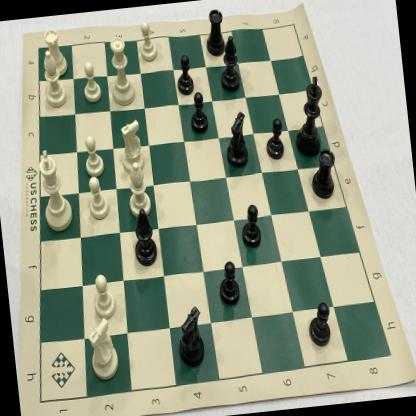bishop: (36, 48, 70, 110), (129, 205, 159, 269), (216, 32, 244, 97), (124, 158, 152, 216)
king: (287, 69, 330, 158), (34, 146, 76, 234)
knight: (84, 313, 122, 383), (172, 301, 208, 370), (221, 107, 252, 170), (116, 115, 147, 176)
pawn: (303, 298, 335, 350), (89, 271, 118, 322), (236, 199, 264, 251), (83, 174, 113, 222), (78, 55, 106, 106), (216, 258, 243, 308), (80, 131, 107, 180), (262, 113, 288, 162), (135, 16, 160, 64), (172, 52, 196, 97), (188, 89, 210, 136)
queen: (104, 31, 139, 108)
rook: (306, 145, 342, 202), (40, 24, 71, 81), (200, 4, 228, 59)
